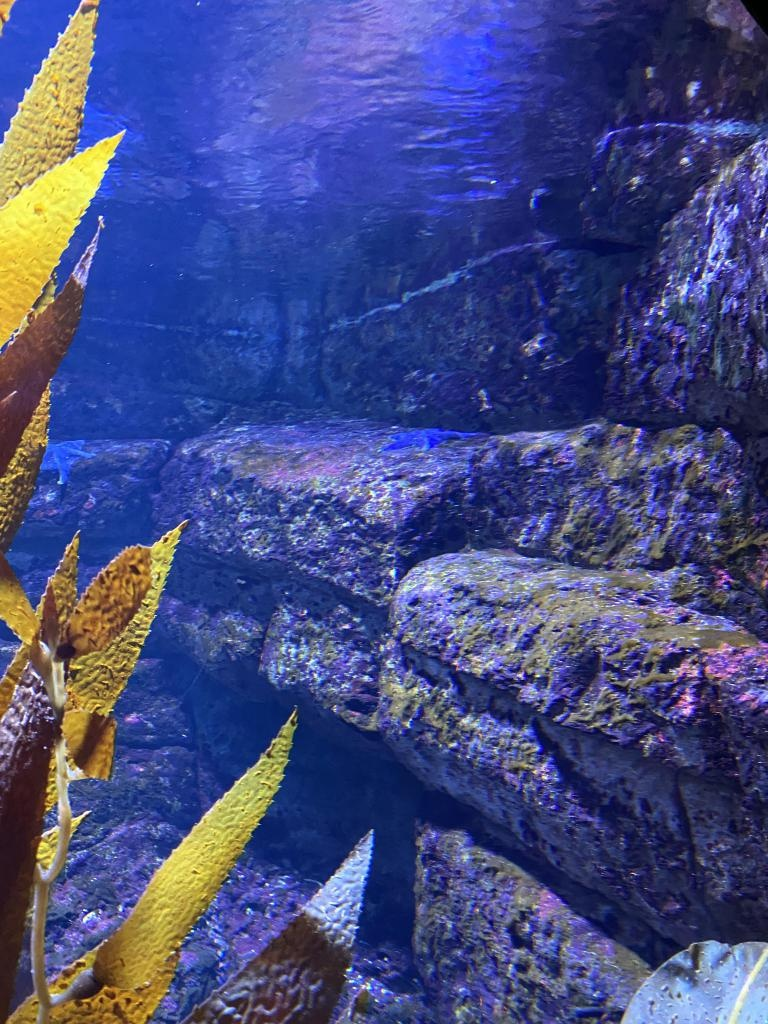starfish: (32, 435, 94, 491), (380, 417, 464, 455)
